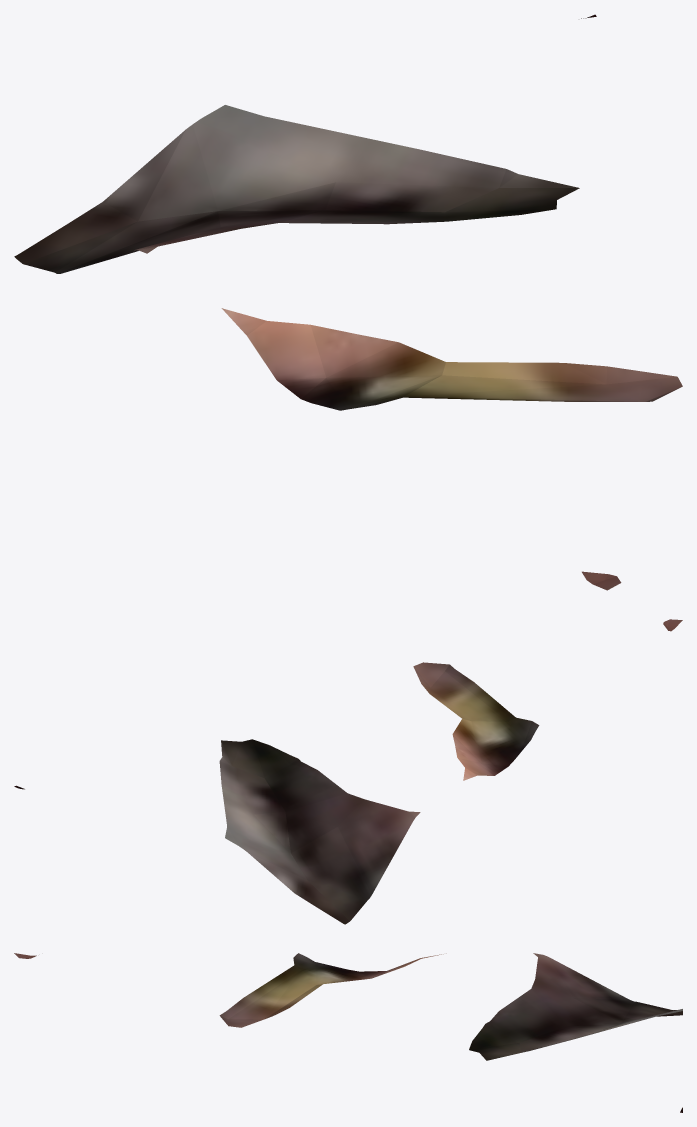
The picture shows the model from 3 angles, top to bottom: view 1: azimuth 30°, elevation 25°; view 2: azimuth 150°, elevation 25°; view 3: azimuth 270°, elevation 25°; orthographic projection. The views are drawn at different scales.
Size of the model in its own units: 0.3005 by 0.0501 by 0.5312.
Materials: 1 (1 with a texture image).
